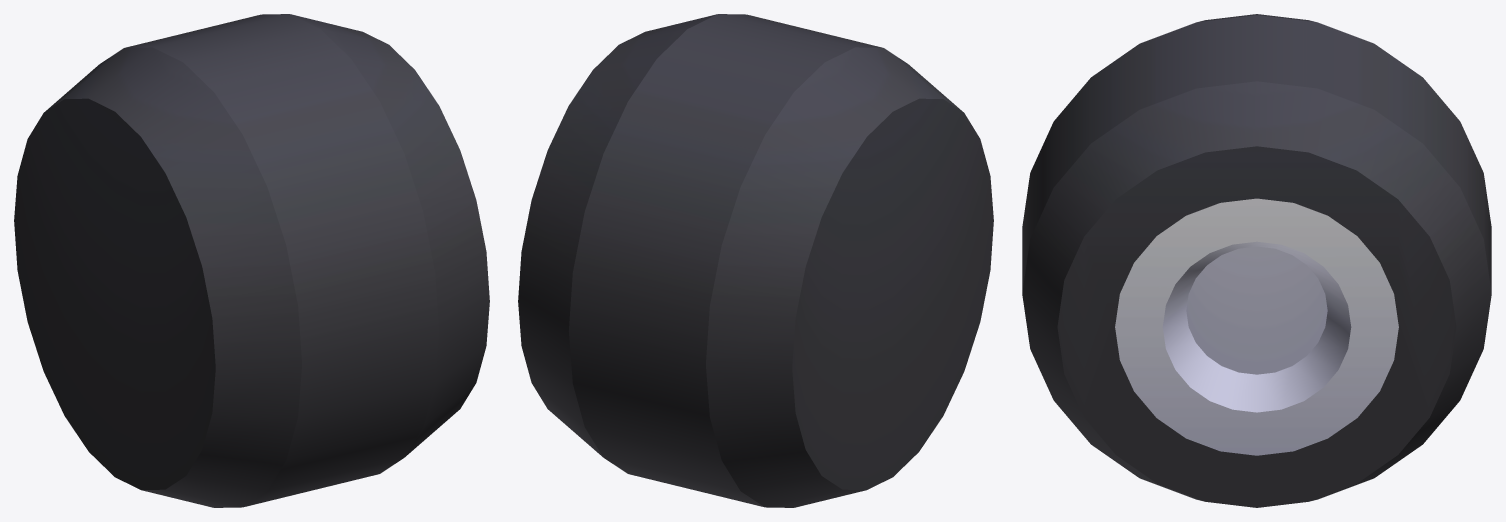
Rendered from wheel-default.glb.
3 views of the same model, side by side, from view 1: azimuth 30°, elevation 25°; view 2: azimuth 150°, elevation 25°; view 3: azimuth 270°, elevation 25° (orthographic).
Visible parts, largest first — view 1: wheel-default; view 2: wheel-default; view 3: wheel-default.
Boxes of the visible parts, x1,y1,x2,y2 form: wheel-default: (14,14,489,507); wheel-default: (518,14,993,507); wheel-default: (1022,14,1491,507).
Bounding box in the file's own units: 0.4 × 0.6 × 0.6.
Materials: 1 (1 with a texture image).
